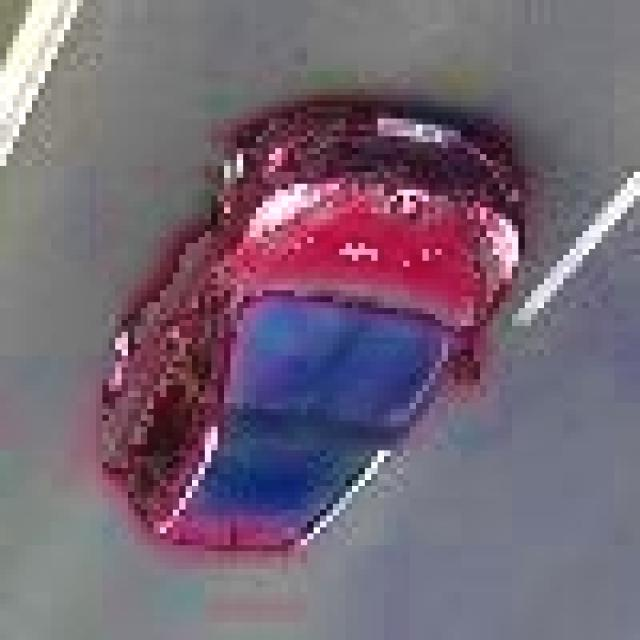maroon: (93, 113, 528, 551)
